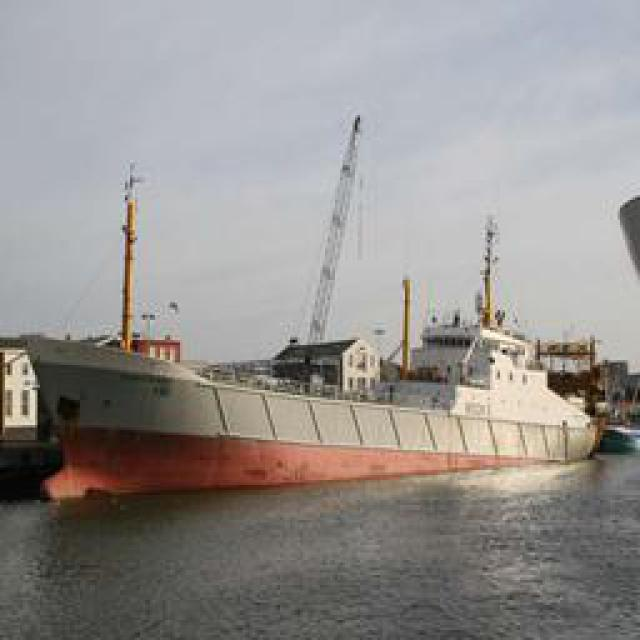Ship: (29, 166, 609, 509)
